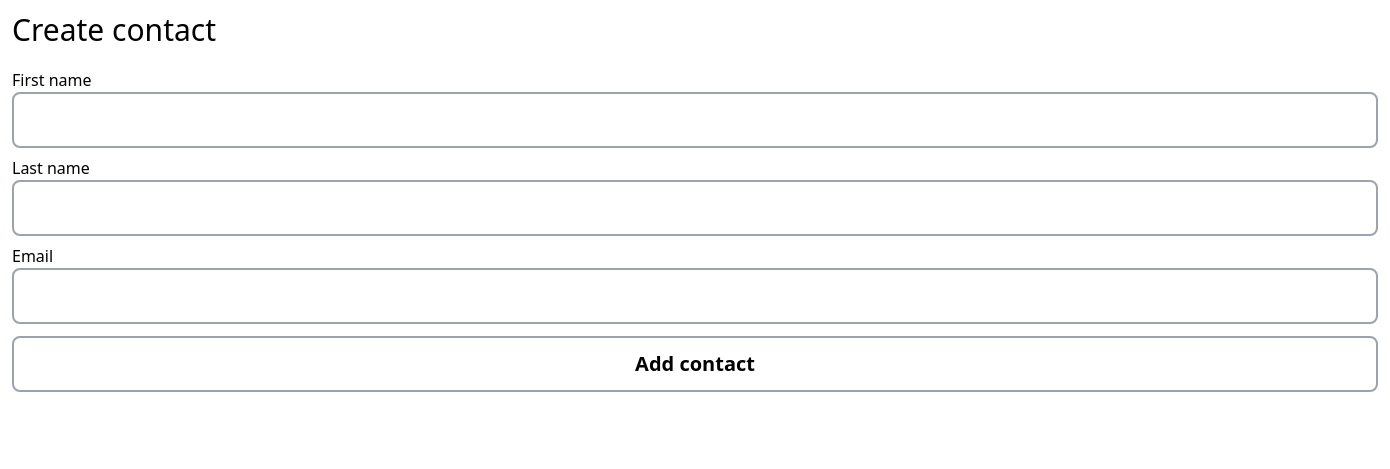
Test: AddContactForm › displays validation errors when fields are empty
The width and height of the screenshot is (1390, 469).
Click the button "Add contact".
click(695, 364)  # box left=12, top=336, right=1378, bottom=392
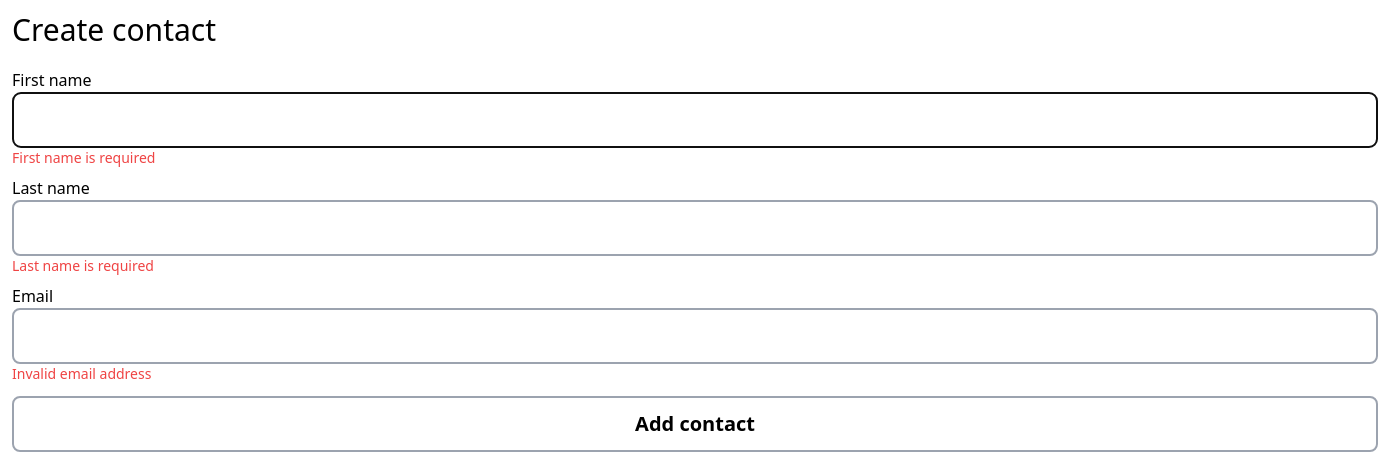
Result: the text "First name is required" is shown at left=12, top=148, right=155, bottom=167
Result: the text "Last name is required" is shown at left=12, top=256, right=154, bottom=275
Result: the text "Invalid email address" is shown at left=12, top=364, right=151, bottom=383
